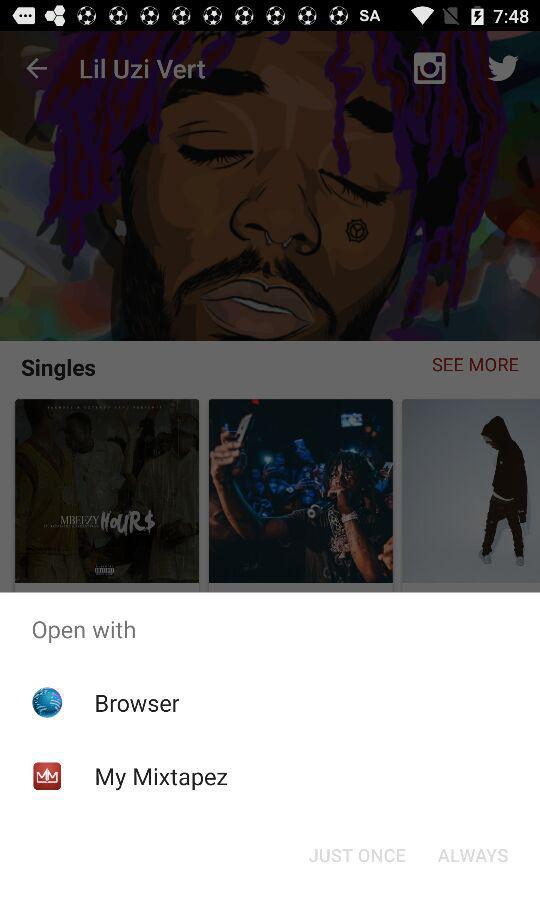Icon: (487, 56, 519, 83), (27, 58, 48, 80)
Image: (1, 33, 539, 342), (16, 400, 200, 584), (209, 400, 393, 584), (401, 400, 540, 584), (413, 53, 446, 86), (33, 687, 64, 719), (33, 762, 62, 791)
Modal: (1, 593, 540, 897)
Text: (96, 767, 229, 791), (80, 61, 206, 81), (33, 620, 137, 644), (22, 359, 96, 382), (96, 694, 180, 713), (309, 848, 407, 864), (431, 358, 518, 373), (438, 848, 509, 864)
UpperTaskBar: (1, 1, 540, 33)
